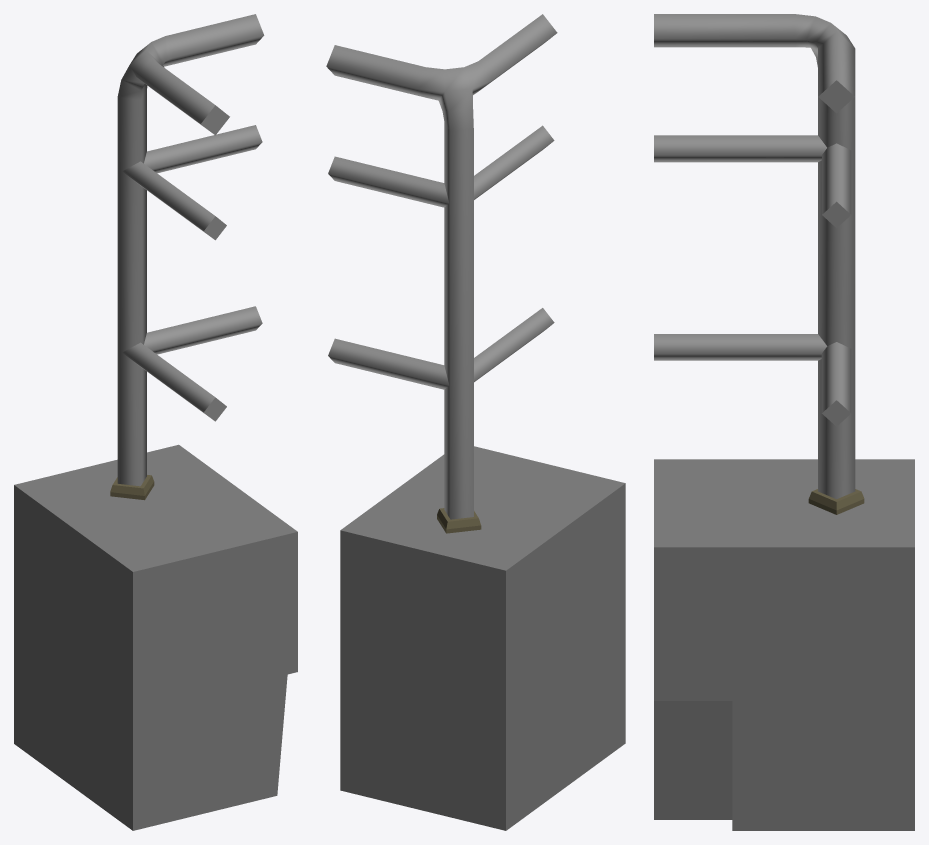
Rendered from SW_ENV_StationStair_Opening_A02_FF.fbx.
3 views of the same model, side by side, from view 1: azimuth 30°, elevation 25°; view 2: azimuth 150°, elevation 25°; view 3: azimuth 270°, elevation 25° (orthographic). The views are drawn at different scales.
Parts seen in each view (by area): view 1: SW_ENV_StationStair_Opening_A02_FF; view 2: SW_ENV_StationStair_Opening_A02_FF; view 3: SW_ENV_StationStair_Opening_A02_FF.
Boxes of the visible parts, <box> form: SW_ENV_StationStair_Opening_A02_FF: <box>14,14,297,830</box>; SW_ENV_StationStair_Opening_A02_FF: <box>326,14,625,830</box>; SW_ENV_StationStair_Opening_A02_FF: <box>654,14,914,830</box>.
Bounding box in the file's own units: 0.5 × 1.64 × 0.5.
